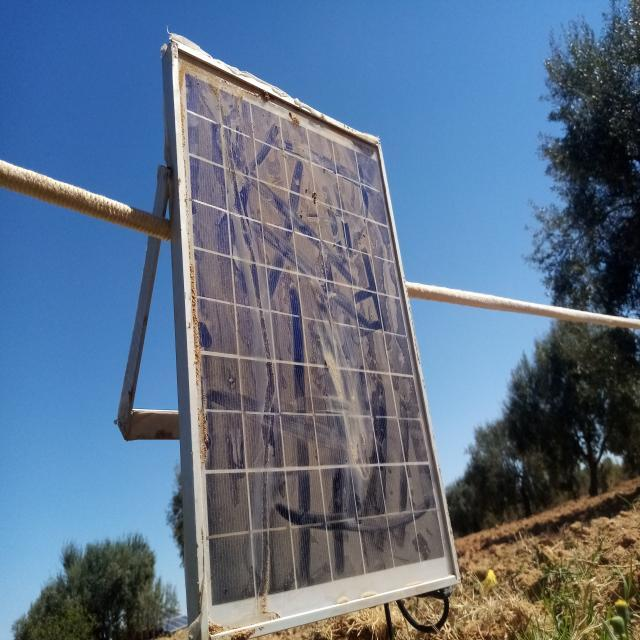faulty: (174, 45, 461, 640)
